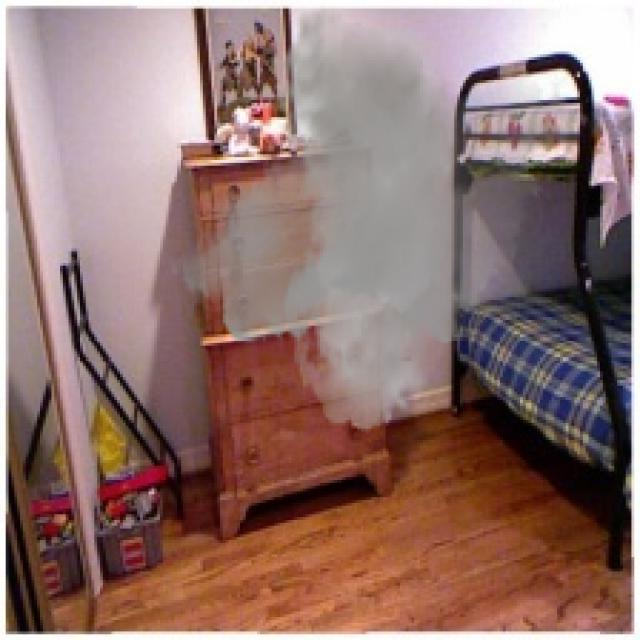Smoke: (168, 6, 592, 432)
